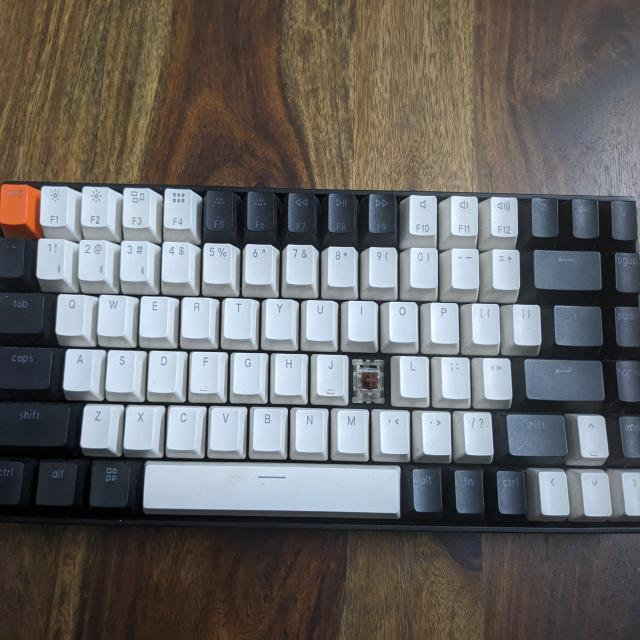key-switch: (351, 356, 387, 402)
